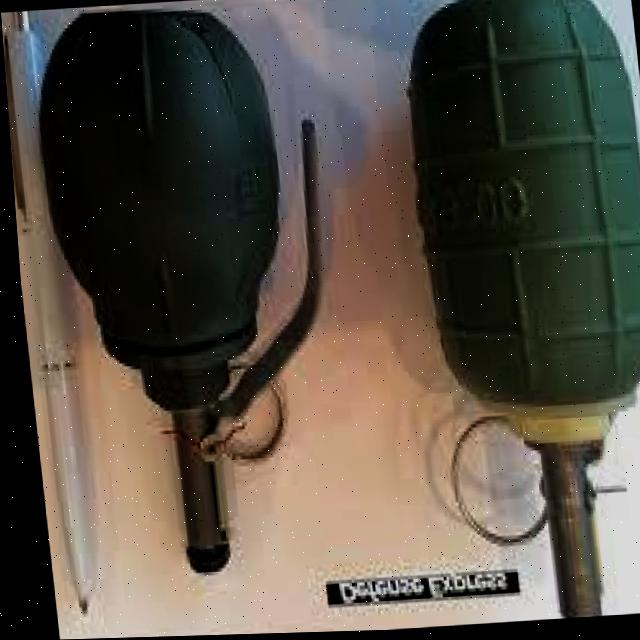grenade: (25, 0, 358, 615), (386, 0, 640, 628)
